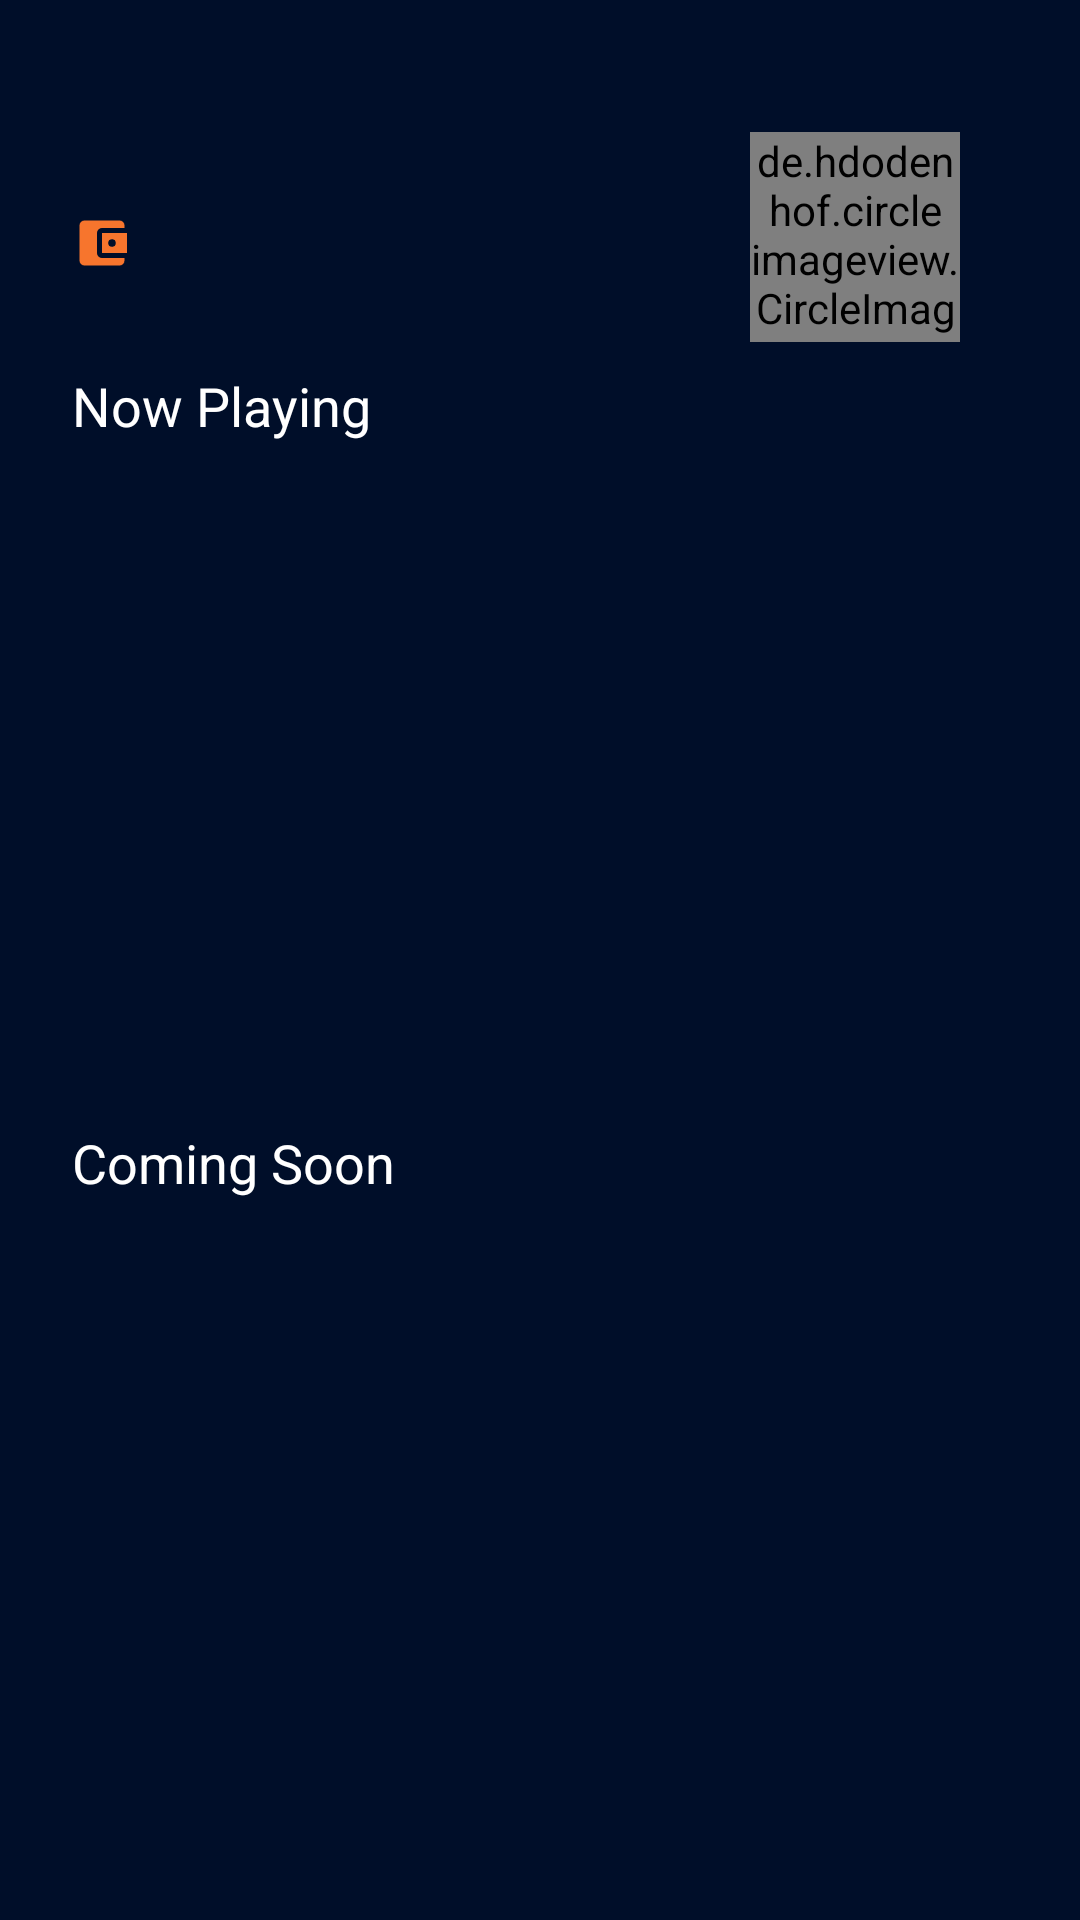

Where to tap for icons on this 1080 x 1920 app screen, as point (x, y):
account balance wallet: point (103, 243)
